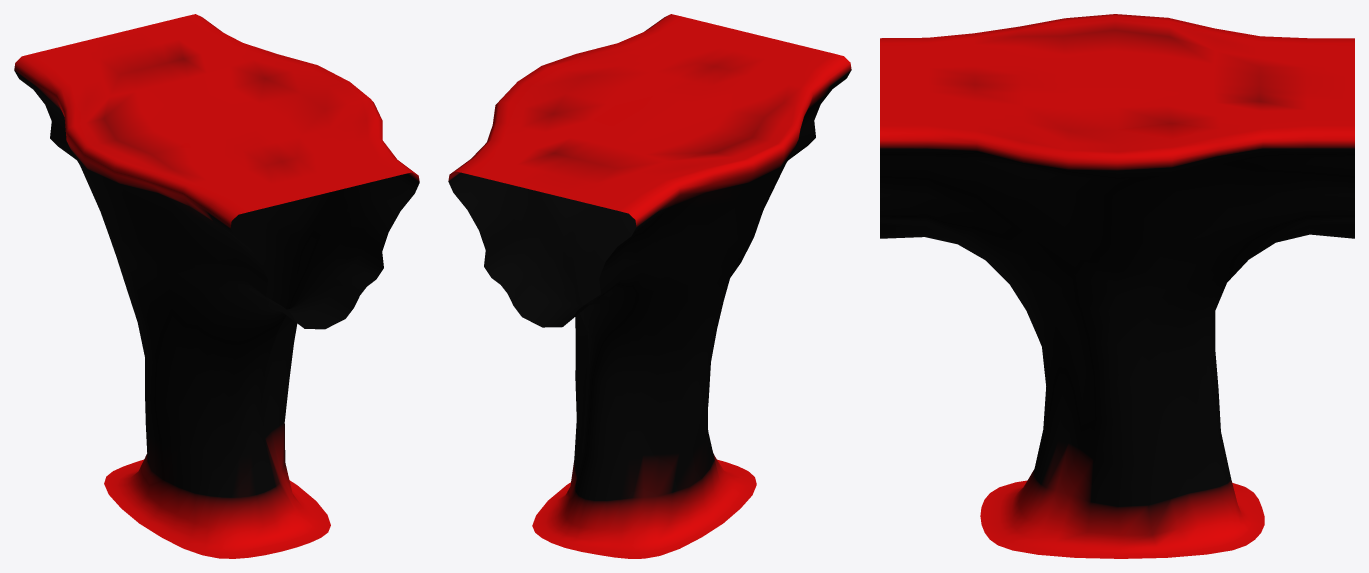
The model's file is CrossingCliff01D 2M Foreground.fbx.
3 renders of one model, left to right at view 1: azimuth 30°, elevation 25°; view 2: azimuth 150°, elevation 25°; view 3: azimuth 270°, elevation 25°, orthographic. The views are drawn at different scales.
Parts seen in each view (by area): view 1: CrossingCliff01D 2M Foreground; view 2: CrossingCliff01D 2M Foreground; view 3: CrossingCliff01D 2M Foreground.
Part boxes in pixels (x1,y1,x2,y2): CrossingCliff01D 2M Foreground: [14, 14, 419, 558]; CrossingCliff01D 2M Foreground: [448, 14, 851, 558]; CrossingCliff01D 2M Foreground: [880, 14, 1354, 558].
Size of the model in its own units: 1.44 by 2 by 2.
